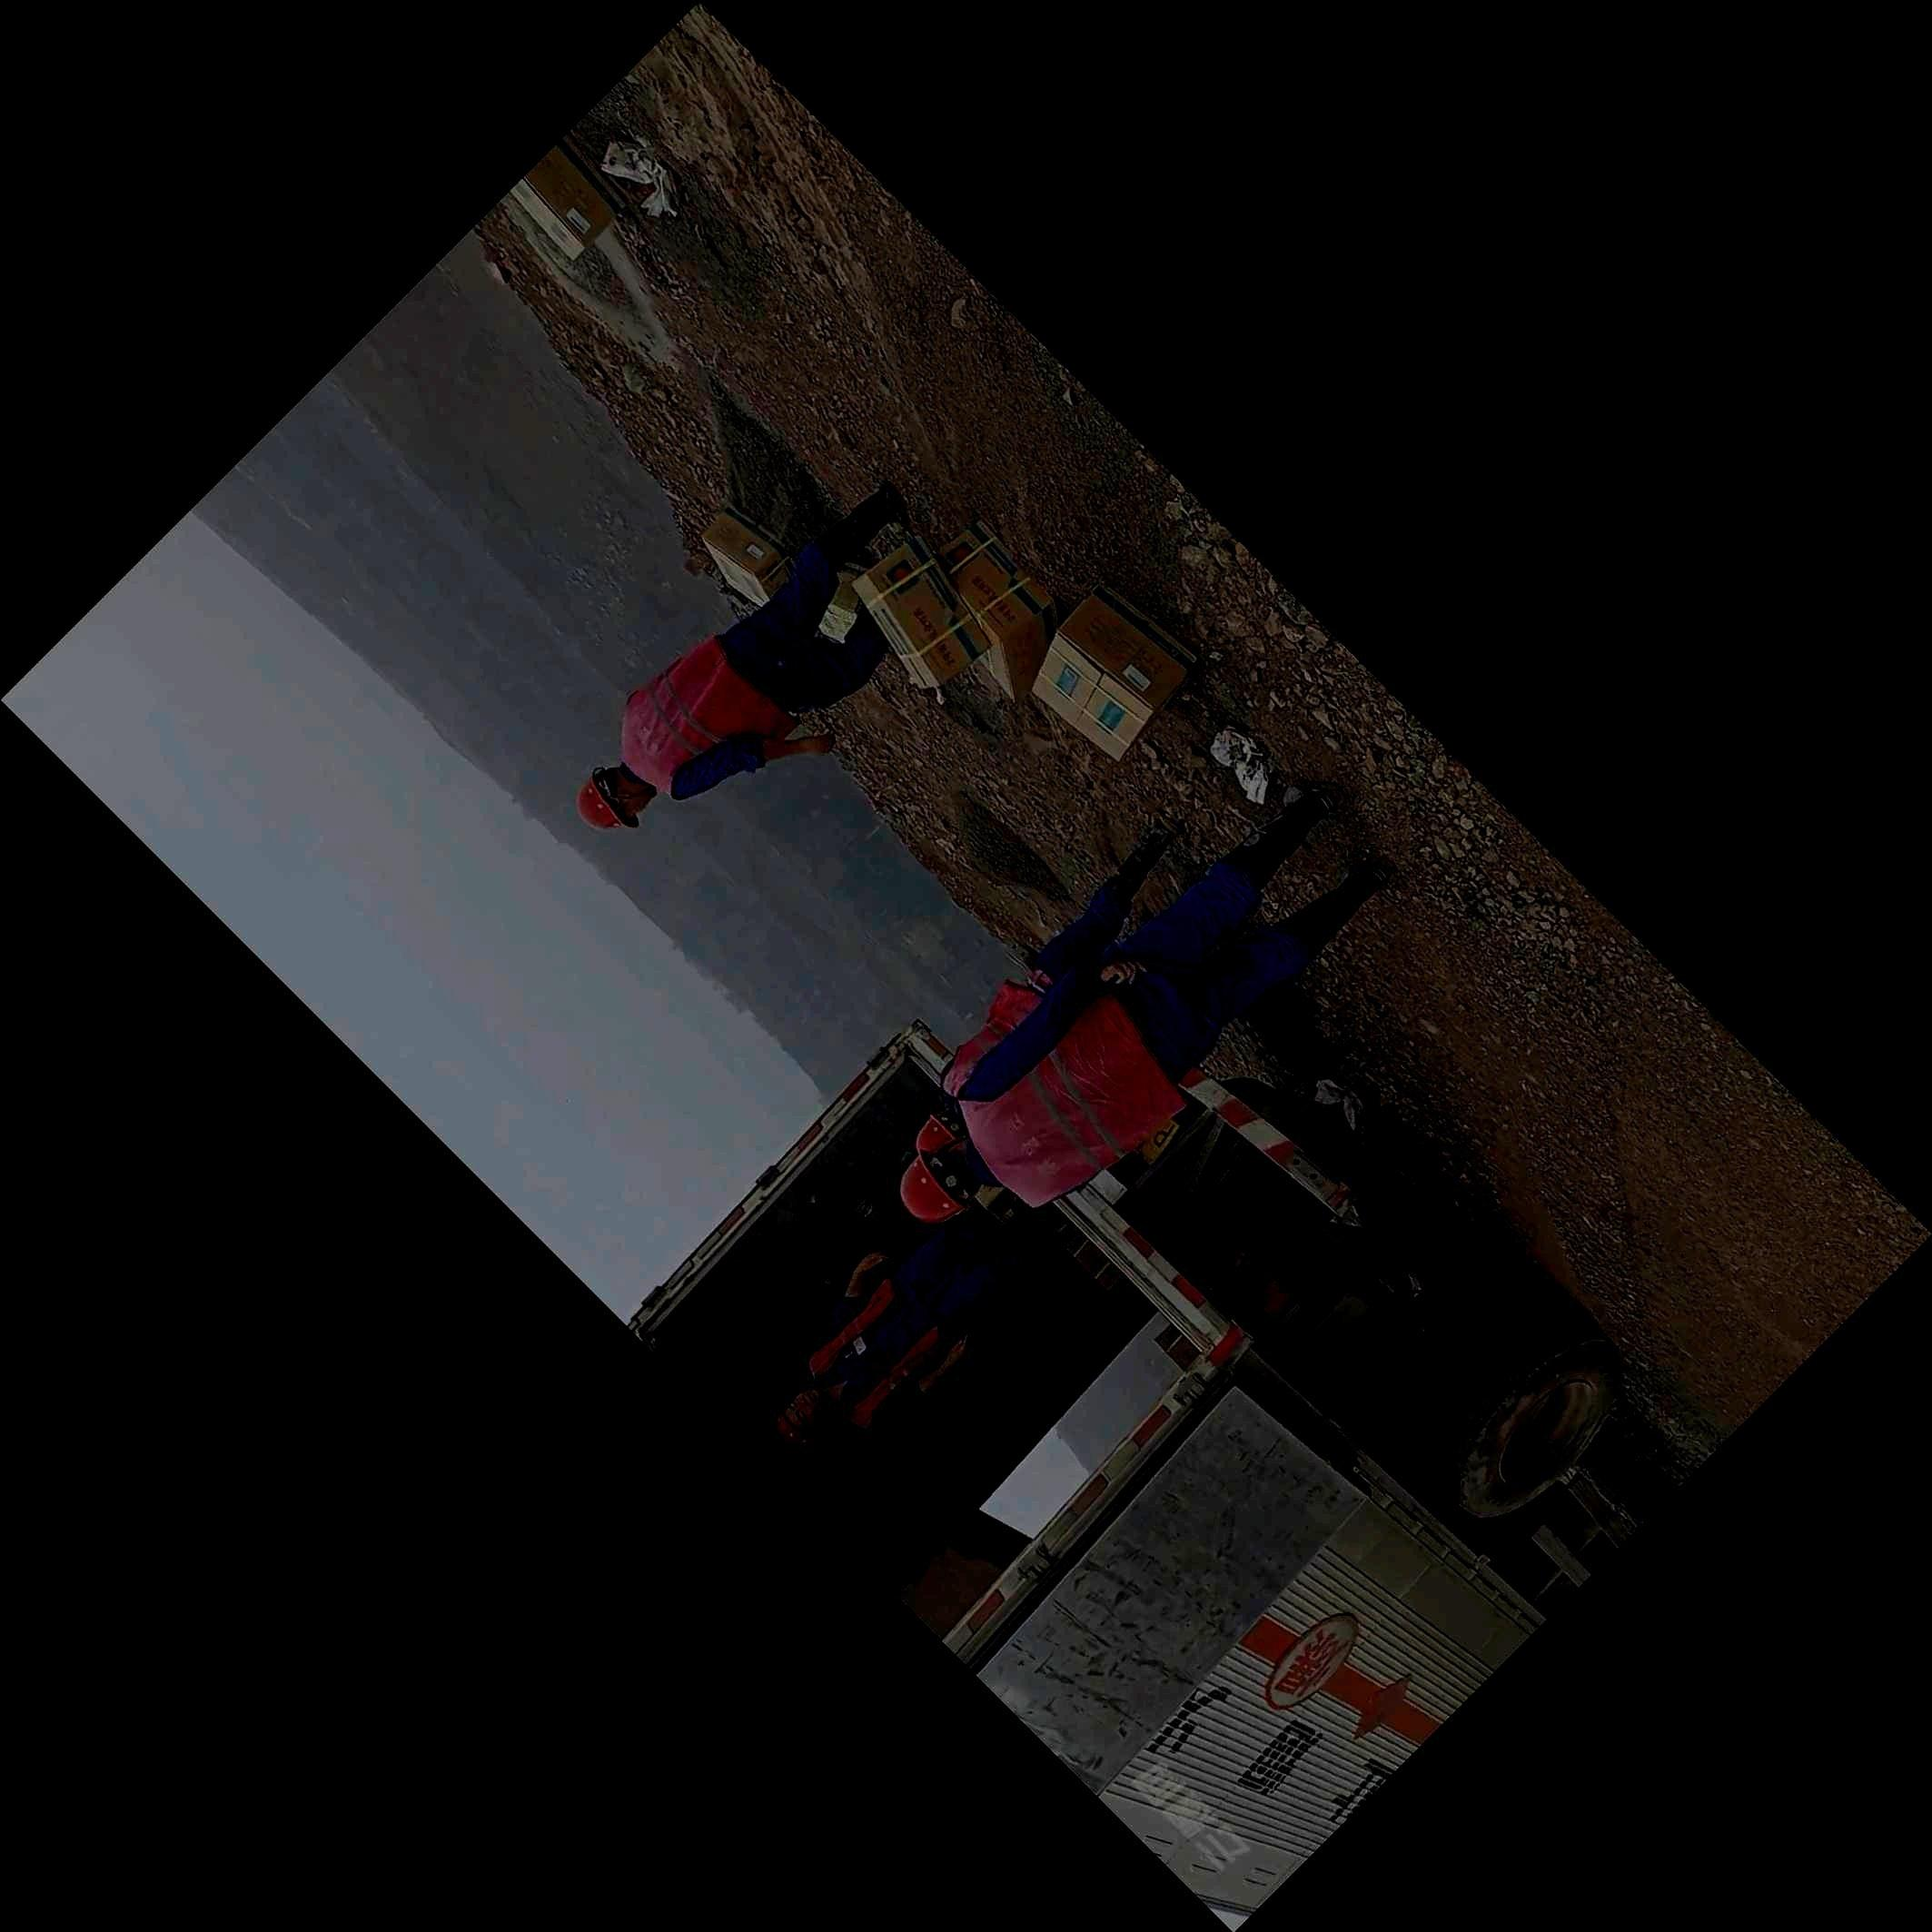helmet: (899, 1148, 982, 1223), (573, 761, 658, 832), (916, 1104, 971, 1155)
